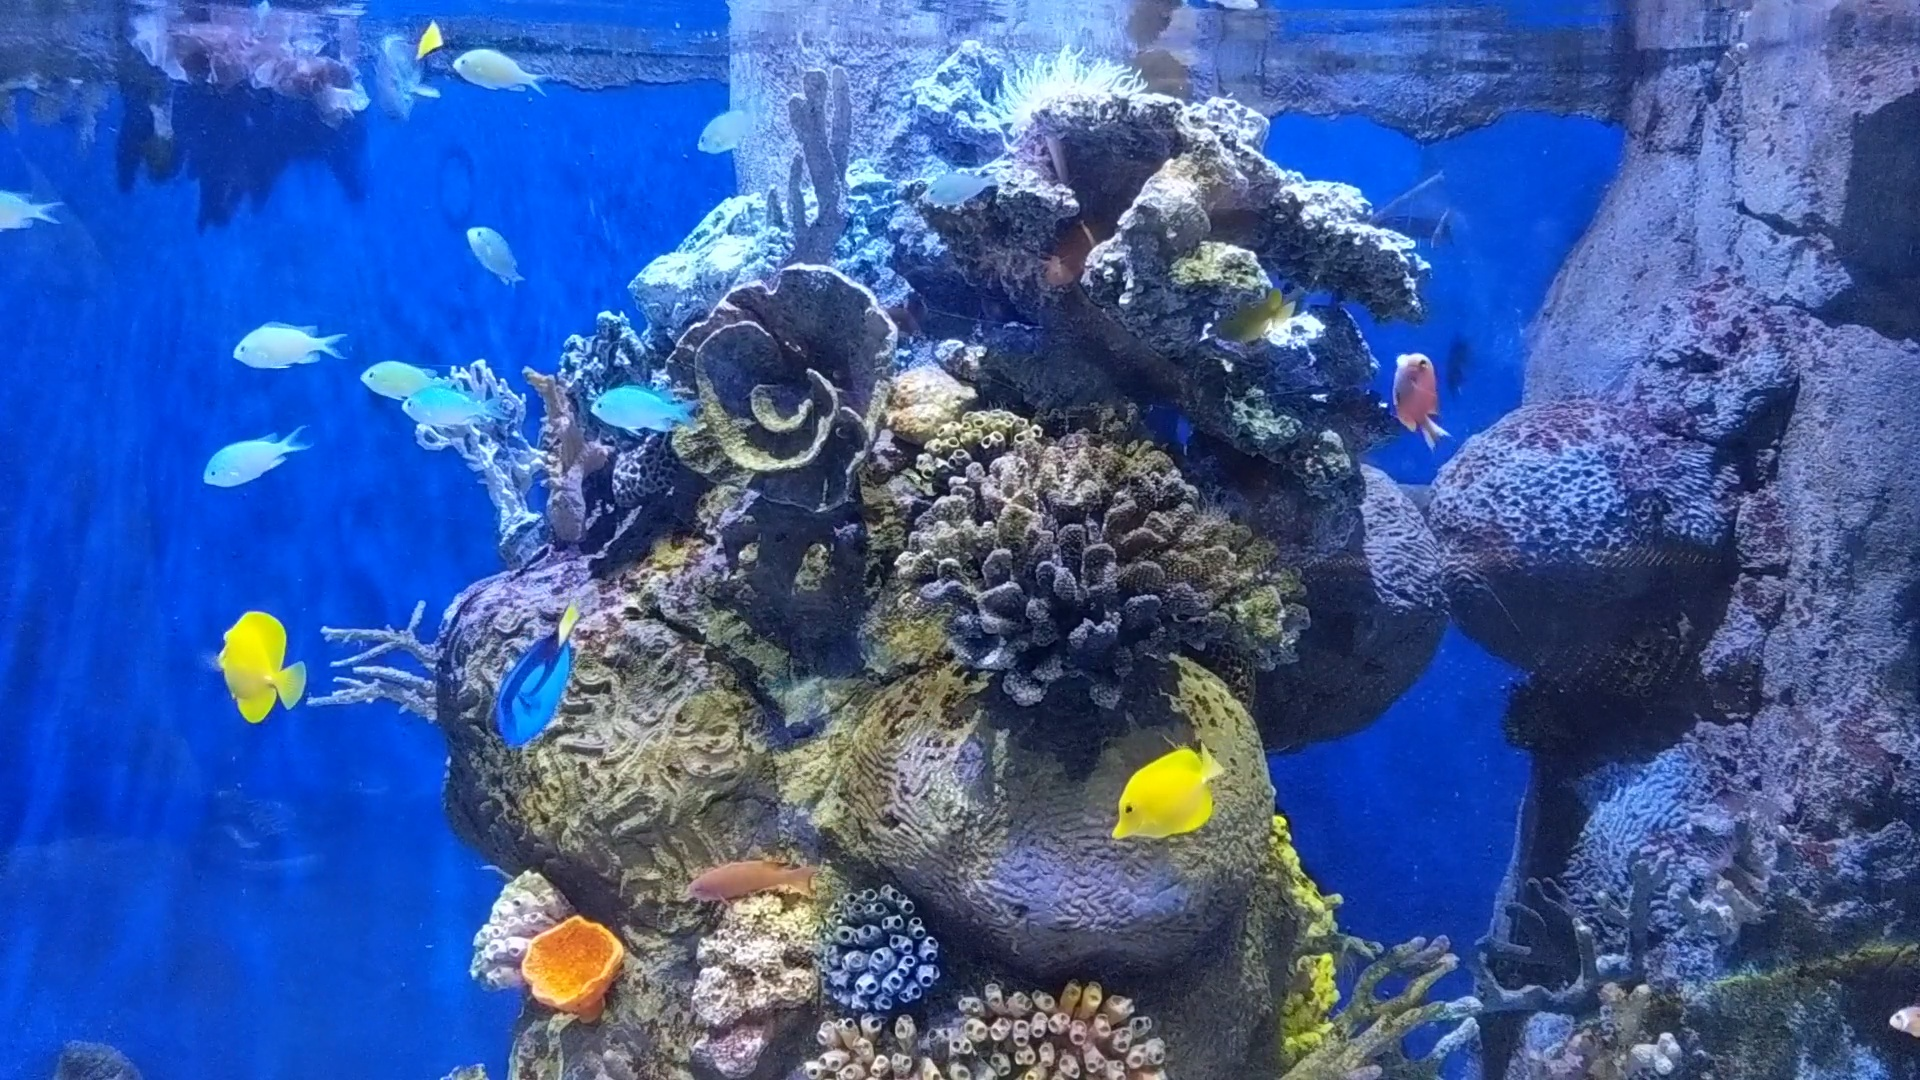blue tang surgeonfish: (477, 585, 582, 754), (364, 21, 440, 88)
damselfish: (220, 301, 348, 375), (433, 29, 534, 107), (584, 378, 699, 444), (460, 195, 527, 302), (189, 415, 298, 477), (406, 375, 502, 444), (352, 338, 442, 402), (698, 99, 767, 164)
pink fish: (1379, 340, 1456, 460)
saddle butterfly fish: (1098, 738, 1230, 851), (200, 604, 309, 723)
